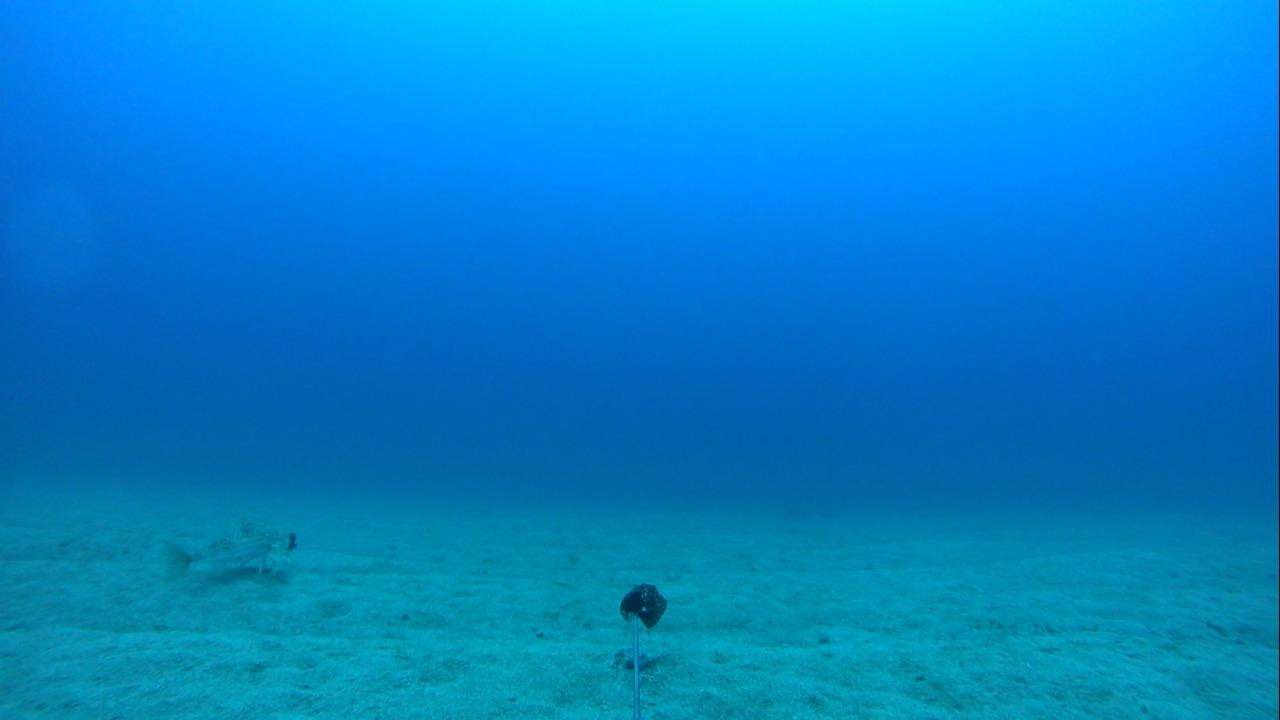dactylopterus: (152, 509, 308, 590)
